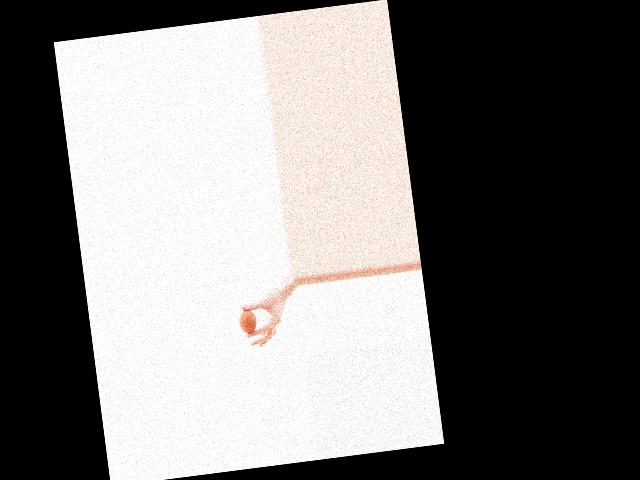egg: (237, 309, 257, 334)
